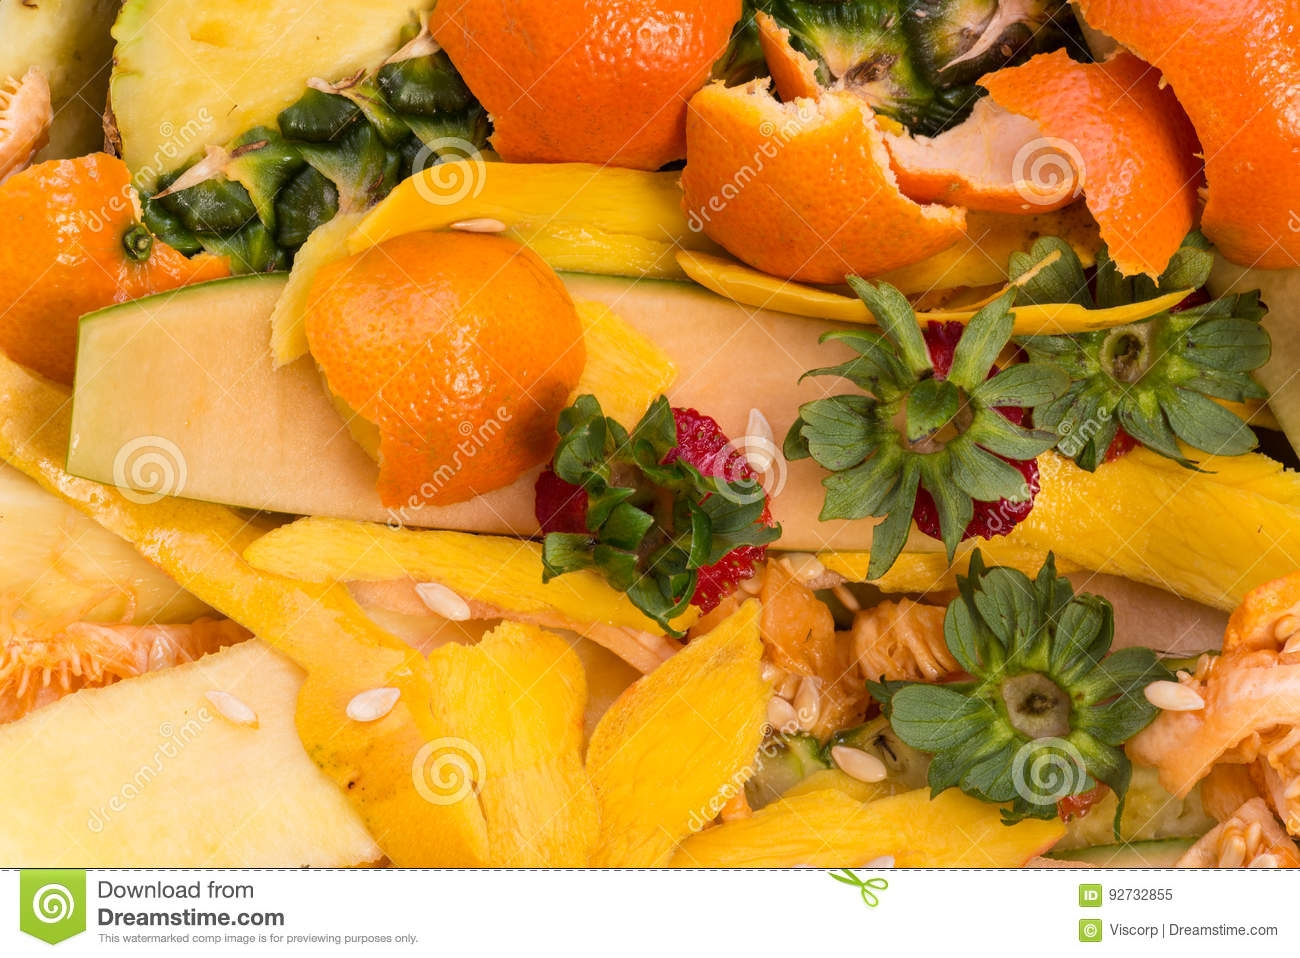kitchen_waste: (286, 223, 609, 522), (777, 271, 1088, 579), (94, 4, 449, 260), (231, 501, 700, 660), (879, 553, 1151, 821), (991, 236, 1284, 477), (673, 69, 989, 286), (1063, 1, 1300, 279), (972, 30, 1209, 295), (1, 152, 236, 404), (534, 395, 795, 621), (409, 1, 748, 173), (1117, 642, 1300, 812)
